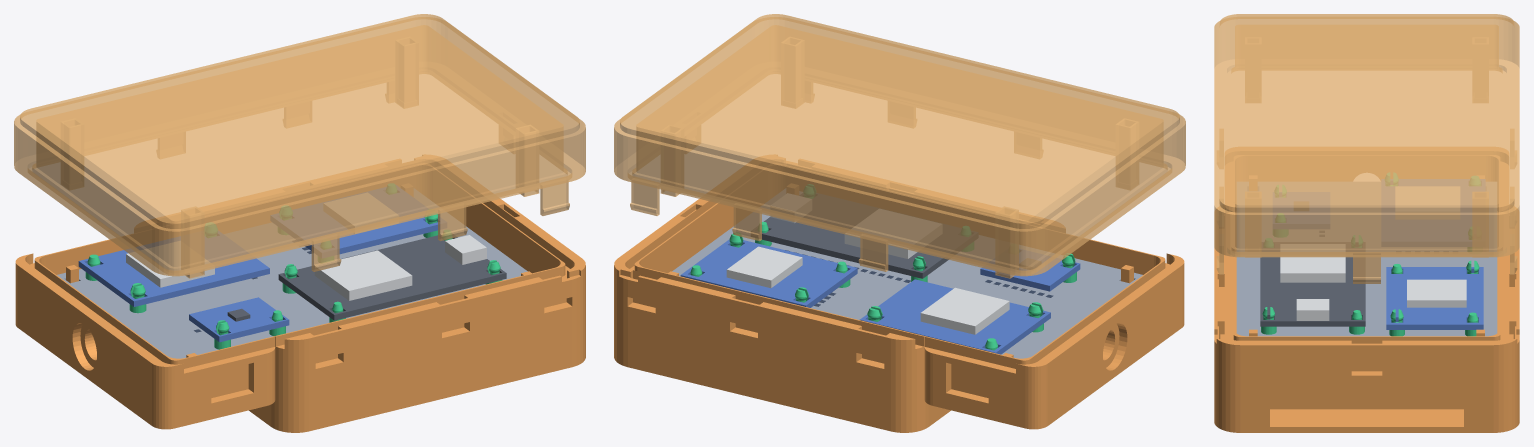
File: SIMULACION_1_PLACA_ENCAJADA_EN_CAPSULA.glb
The picture shows the model from 3 angles, left to right: view 1: azimuth 30°, elevation 25°; view 2: azimuth 150°, elevation 25°; view 3: azimuth 270°, elevation 25°; orthographic projection. The views are drawn at different scales.
Visible parts, largest first — view 1: Tapa_Solar_Flotando, Capsula_Base_ASA, Baquelita_PETG_Gris, Modulos_PCB_Azul, Blindajes_RF_Plata, Modulo_ESP32_Negro, Soportes_Ganchos_Y_Palitos_Verde; view 2: Tapa_Solar_Flotando, Capsula_Base_ASA, Baquelita_PETG_Gris, Modulos_PCB_Azul, Blindajes_RF_Plata, Modulo_ESP32_Negro, Soportes_Ganchos_Y_Palitos_Verde; view 3: Tapa_Solar_Flotando, Capsula_Base_ASA, Baquelita_PETG_Gris, Modulos_PCB_Azul, Blindajes_RF_Plata, Modulo_ESP32_Negro, Soportes_Ganchos_Y_Palitos_Verde.
Part boxes in pixels (box(x1,y1,x2,y2)): Tapa_Solar_Flotando: box(14, 14, 585, 278); Capsula_Base_ASA: box(15, 155, 585, 432); Baquelita_PETG_Gris: box(57, 189, 527, 358); Modulos_PCB_Azul: box(78, 185, 446, 342); Blindajes_RF_Plata: box(126, 193, 486, 300); Modulo_ESP32_Negro: box(227, 234, 506, 321); Soportes_Ganchos_Y_Palitos_Verde: box(85, 184, 502, 349); Tapa_Solar_Flotando: box(614, 14, 1185, 278); Capsula_Base_ASA: box(614, 155, 1184, 432); Baquelita_PETG_Gris: box(672, 189, 1142, 358); Modulos_PCB_Azul: box(680, 239, 1080, 354); Blindajes_RF_Plata: box(726, 193, 1009, 334); Modulo_ESP32_Negro: box(751, 193, 1040, 278); Soportes_Ganchos_Y_Palitos_Verde: box(690, 184, 1076, 350); Tapa_Solar_Flotando: box(1214, 14, 1519, 283); Capsula_Base_ASA: box(1214, 147, 1519, 432); Baquelita_PETG_Gris: box(1236, 182, 1497, 336); Modulos_PCB_Azul: box(1273, 179, 1484, 329); Blindajes_RF_Plata: box(1280, 187, 1466, 320); Modulo_ESP32_Negro: box(1260, 202, 1365, 326); Soportes_Ganchos_Y_Palitos_Verde: box(1261, 173, 1480, 336).
Bounding box in the file's own units: 126 × 66 × 82.
